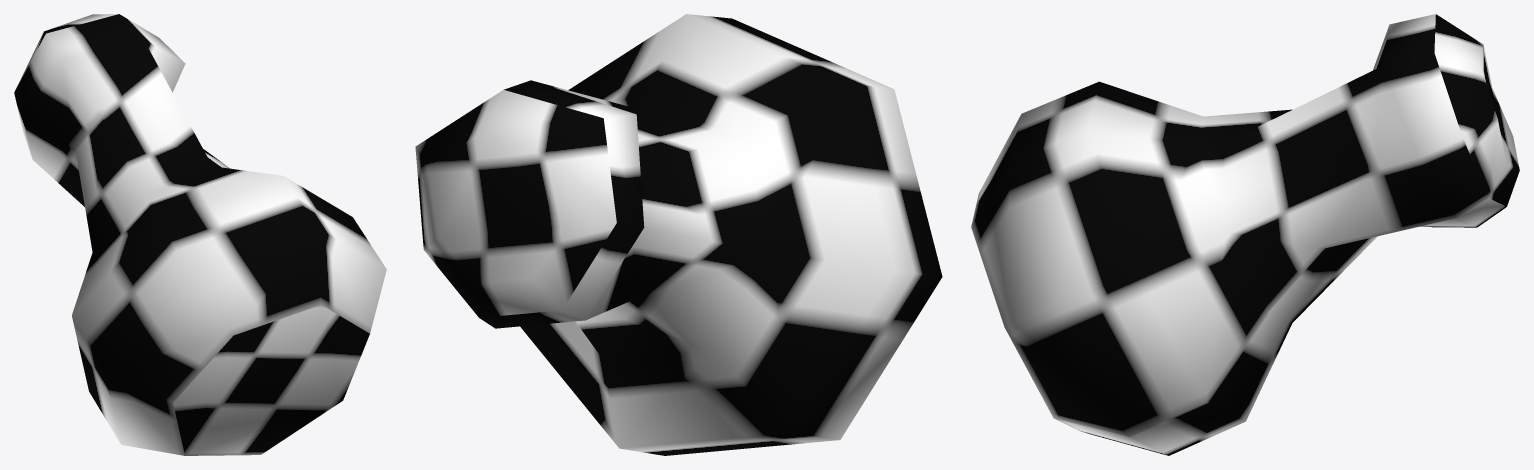
File: initqu5.dae
3 views of the same model, side by side, from view 1: azimuth 30°, elevation 25°; view 2: azimuth 150°, elevation 25°; view 3: azimuth 270°, elevation 25° (orthographic). The views are drawn at different scales.
Visible parts, largest first — view 1: item; view 2: item; view 3: item.
Part boxes in pixels (<box>): item: <box>14,14,386,455</box>; item: <box>415,14,942,455</box>; item: <box>971,14,1519,455</box>.
Size of the model in its own units: 0.9689 by 1.44 by 1.17.
1 material, 1 textured.
